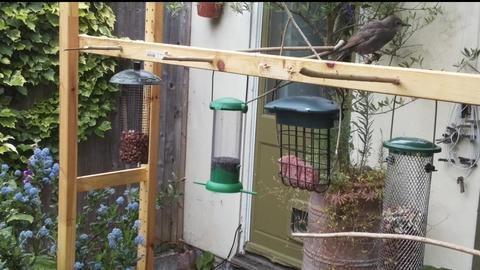starling: (336, 15, 412, 64)
